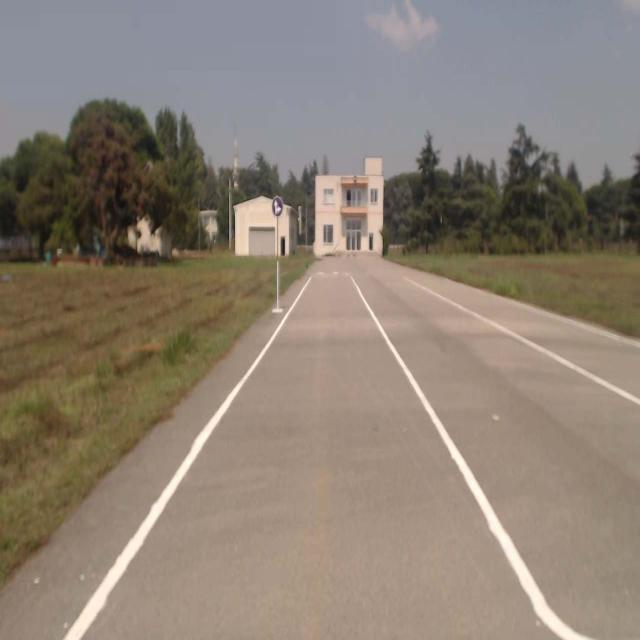ilerisag: (272, 196, 282, 216)
